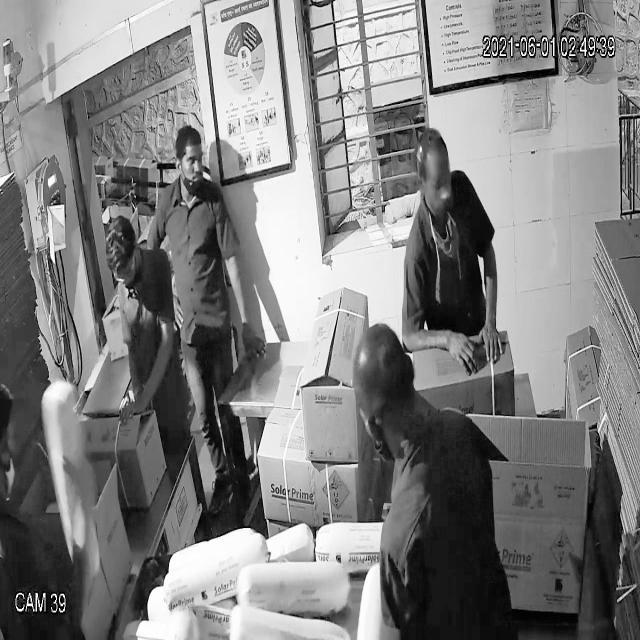glasses: (106, 255, 143, 287)
no-glass: (414, 165, 458, 202), (170, 149, 210, 176)
